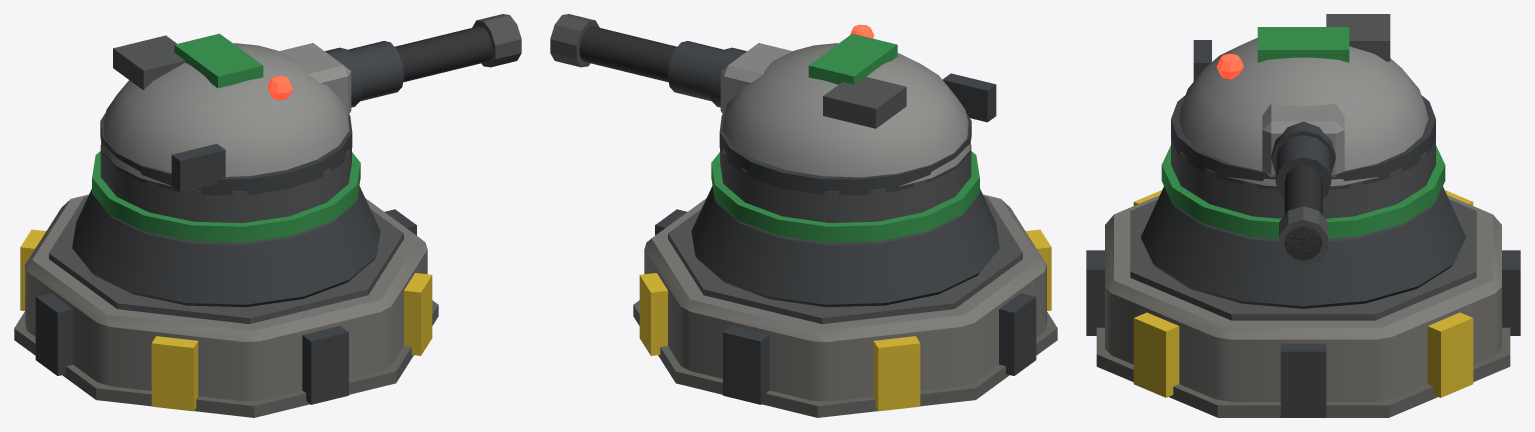
The model's file is turret.glb.
3 views of the same model, side by side, from view 1: azimuth 30°, elevation 25°; view 2: azimuth 150°, elevation 25°; view 3: azimuth 270°, elevation 25° (orthographic). The views are drawn at different scales.
Parts seen in each view (by area): view 1: Turret_head, Turret_Foundation, Turret_Frame, Turret_Details; view 2: Turret_head, Turret_Foundation, Turret_Frame, Turret_Details; view 3: Turret_Foundation, Turret_head, Turret_Frame, Turret_Details.
Part boxes in pixels (<box>): Turret_head: <box>100,14,521,195</box>; Turret_Foundation: <box>14,194,438,417</box>; Turret_Frame: <box>72,143,380,307</box>; Turret_Details: <box>20,151,432,411</box>; Turret_head: <box>550,14,996,195</box>; Turret_Foundation: <box>633,194,1057,417</box>; Turret_Frame: <box>691,143,999,307</box>; Turret_Details: <box>639,151,1051,411</box>; Turret_Foundation: <box>1096,195,1510,417</box>; Turret_head: <box>1171,14,1435,266</box>; Turret_Frame: <box>1140,136,1466,308</box>; Turret_Details: <box>1086,145,1520,417</box>.
Bounding box in the file's own units: 1.22 × 0.695 × 0.95.
